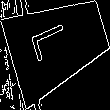L_E: (35, 21, 82, 68)
